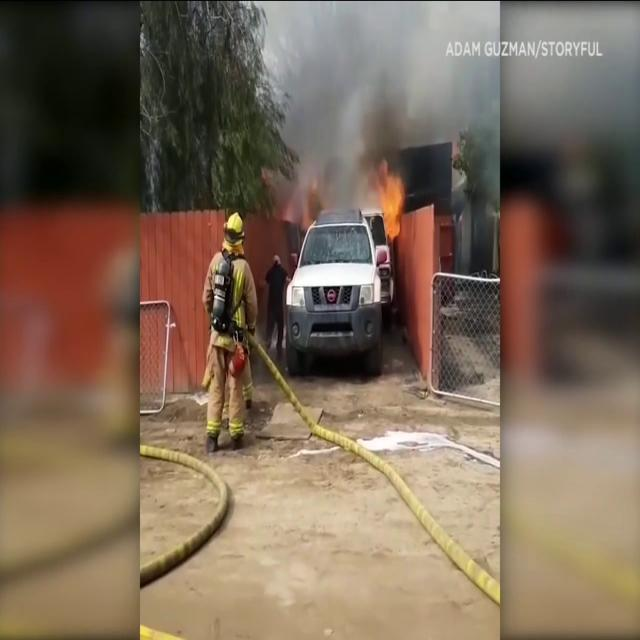Fire: (375, 161, 406, 246)
Smoke: (0, 1, 140, 387), (265, 2, 499, 224)
